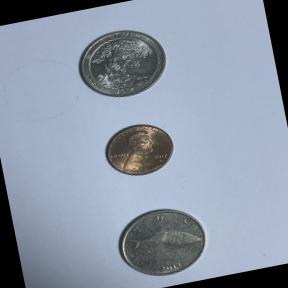Croatia-2Kune-B: (106, 198, 216, 286)
US-1cent-B: (96, 115, 182, 184)
US-25cent-B: (68, 19, 178, 111)
